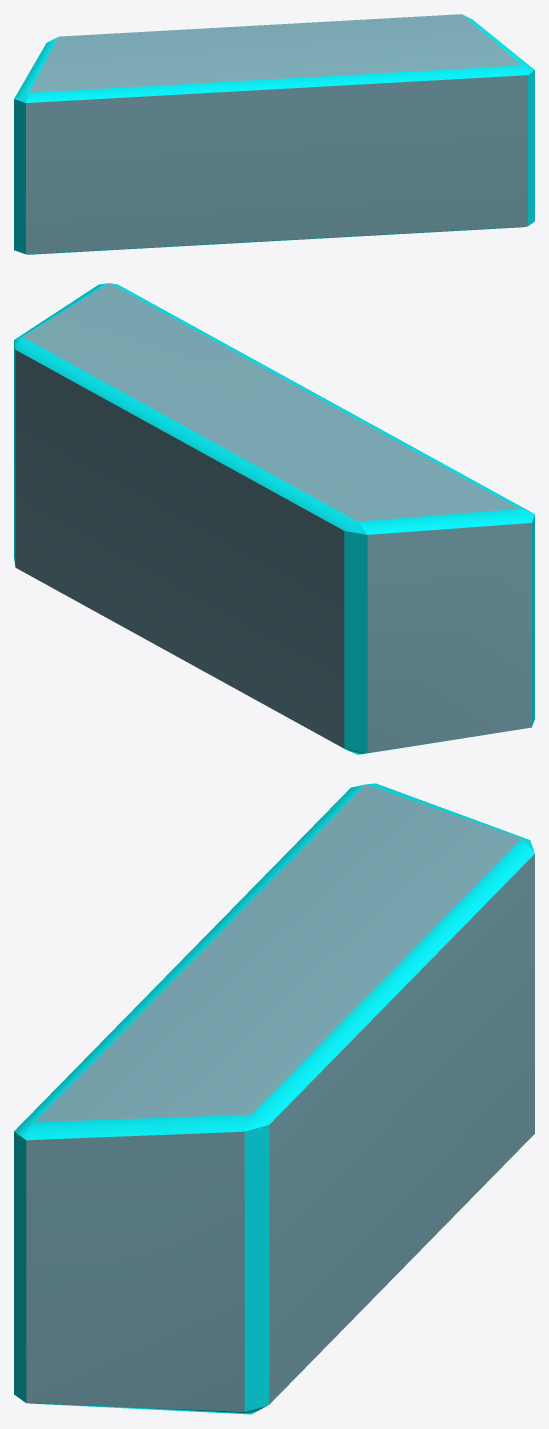
The model's file is BlueL2.fbx.
3 views of the same model, one above another, from view 1: azimuth 30°, elevation 25°; view 2: azimuth 150°, elevation 25°; view 3: azimuth 270°, elevation 25° (orthographic). The views are drawn at different scales.
Visible parts, largest first — view 1: polySurface72; view 2: polySurface72; view 3: polySurface72.
Boxes of the visible parts, box(x1,y1,x2,y2) form: polySurface72: box(14, 14, 534, 254); polySurface72: box(14, 283, 534, 754); polySurface72: box(14, 783, 534, 1414).
Size of the model in its own units: 2.04 by 0.8012 by 1.26.
